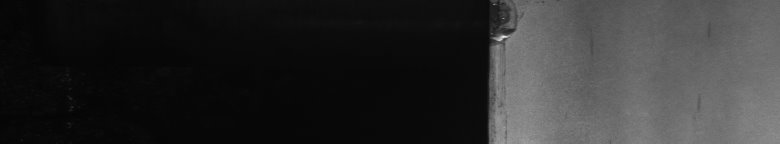hb: (500, 4, 524, 136)
